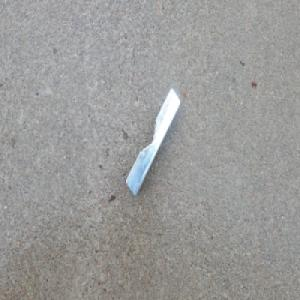ClampPart: (125, 87, 181, 197)
